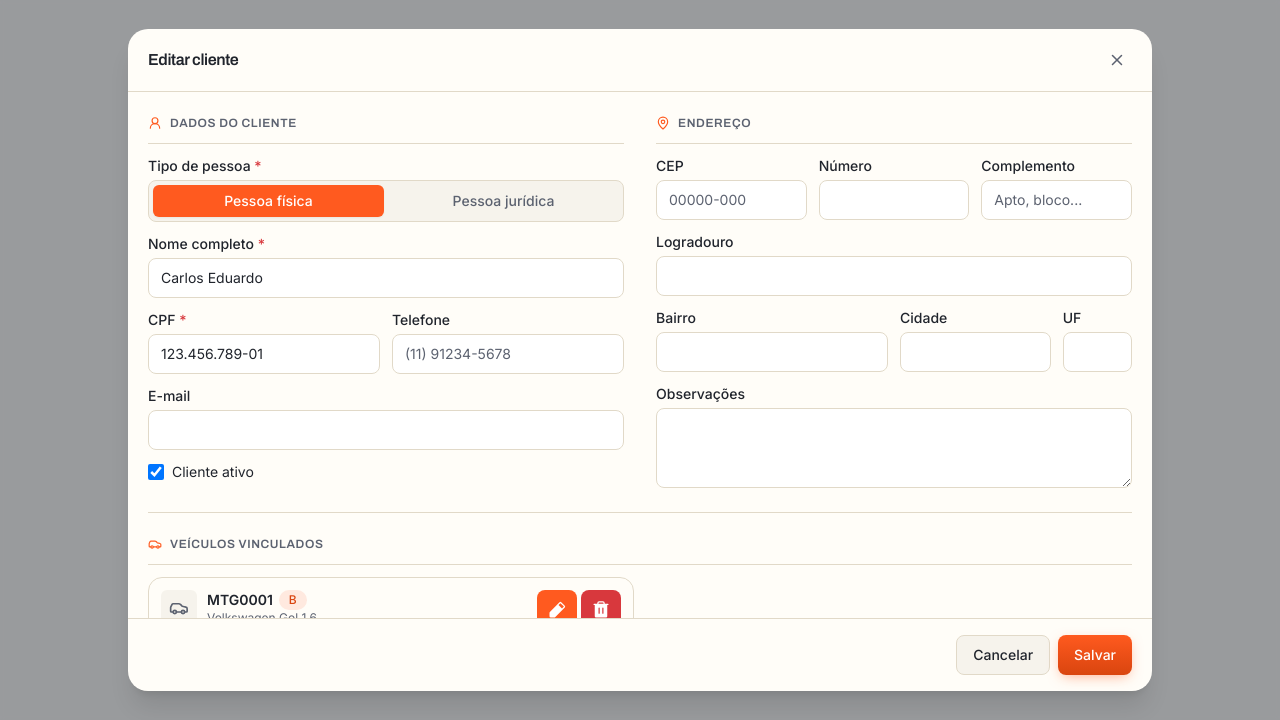
Test: ClienteFormModal › shows the linked veículos section and lets one be edited inline when editing a cliente
The image size is (1280, 720).
Expected: the heading "Editar cliente" is shown, [148,48,238,72]
Expected: the heading "Veículos vinculados" is shown, [148,536,324,552]
Click the button named "Editar veículo".
click(557, 610)  # box [537,590,577,630]
(page scrolled)
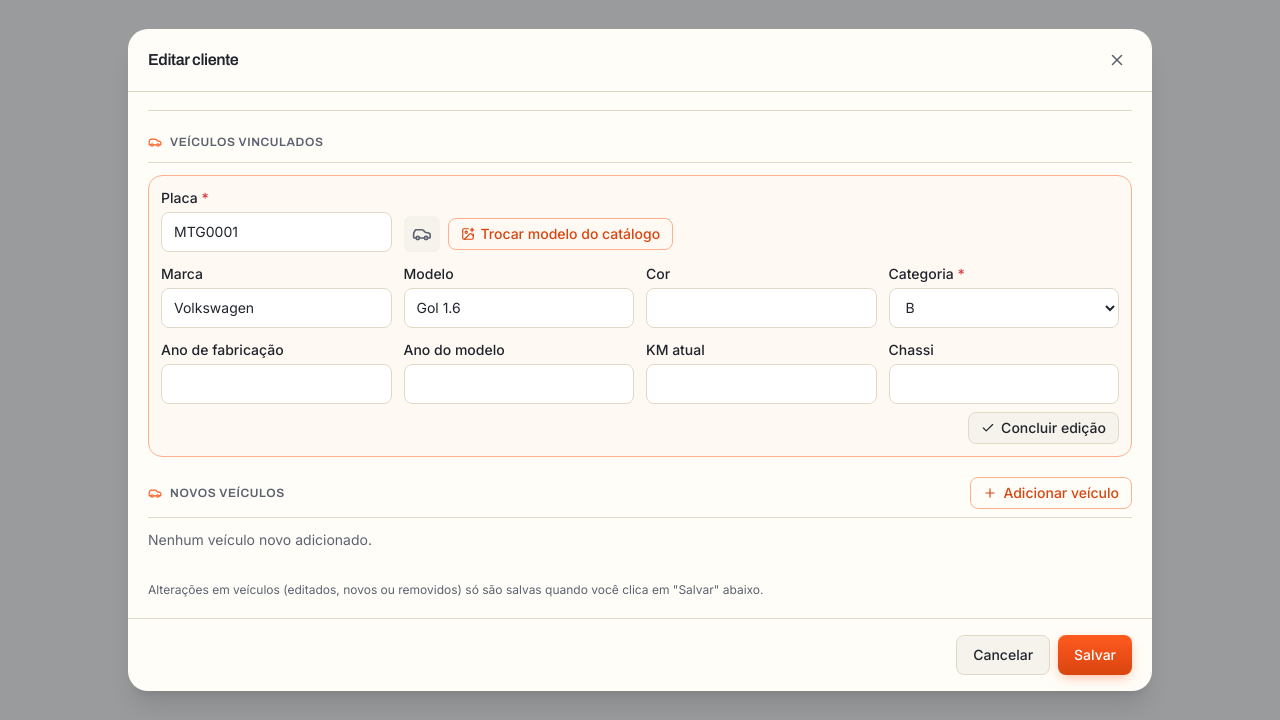
Expected: the button "Concluir edição" is shown, [968,412,1119,444]
